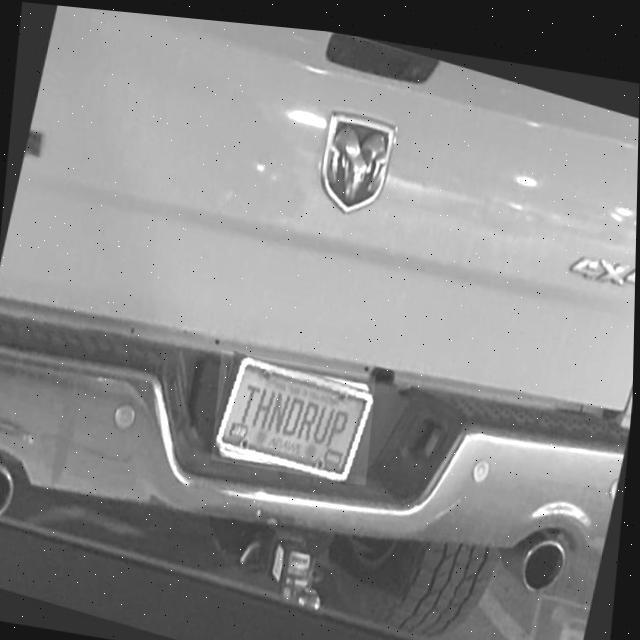LicensePlate: (214, 348, 375, 475)
